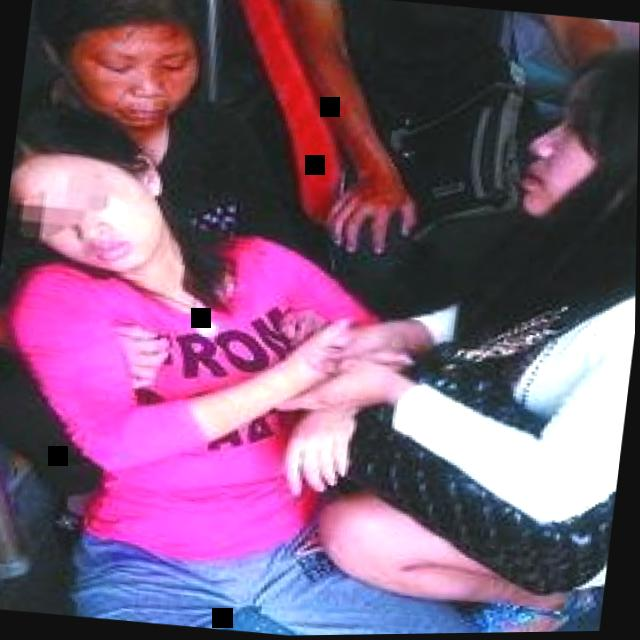Fall-Detected: (0, 106, 639, 640)
